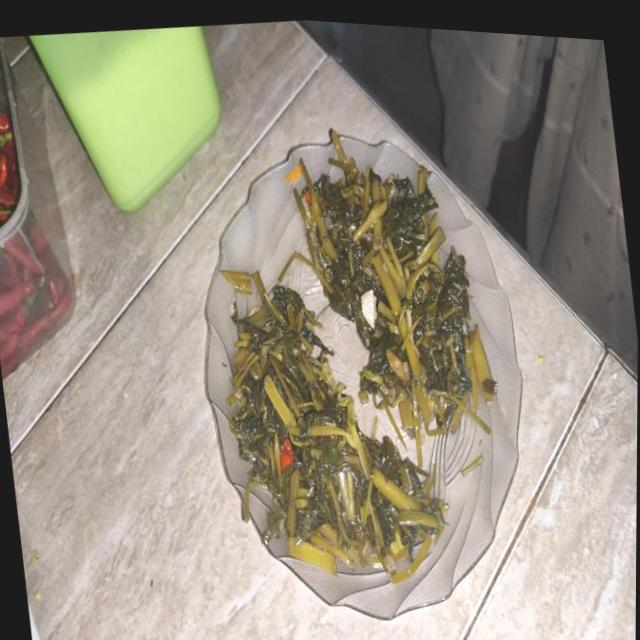tumis_kangkung: (221, 270, 444, 582), (294, 142, 496, 436)
